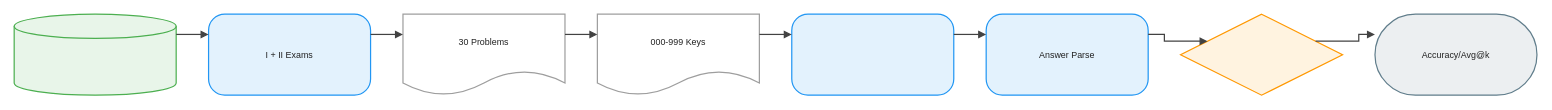
Some shapes in this 1552 by 110 pixel diagram are drawn without their labels. The centre of each missing label's shape, as x and y in pixels:
"2025 AIME" goes at [94,54].
"Exact Match" goes at [1261,54].
"Model Attempts" goes at [872,54].
